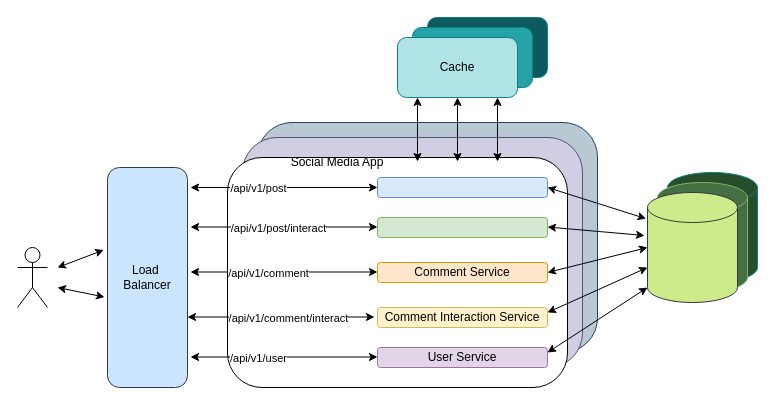
Image size: 775x405. Some labels were removed from this diagram. The shapes that lost their labels are listed below. From the top down, each one's centre as x and y in pixels, then its label:
At pixel 462 187: "Post Service".
At pixel 462 227: "Post Interaction Service".
At pixel 692 247: "Database".
At pixel 32 277: "User".
